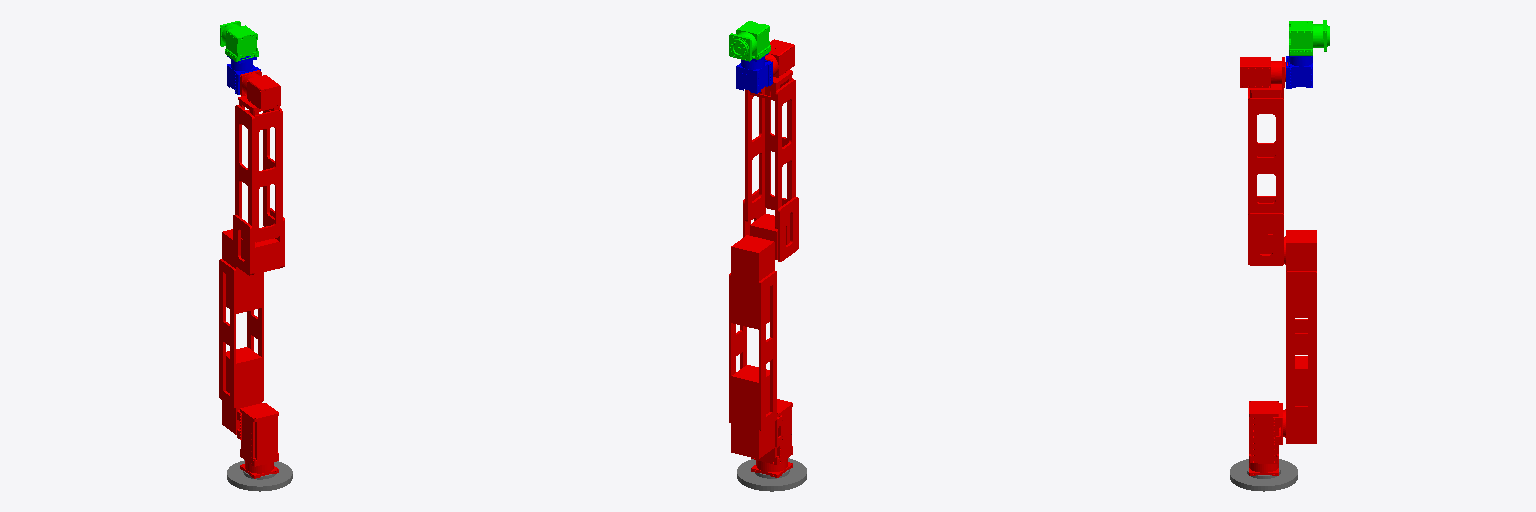
The robot description file, URDF, robot "baram":
<?xml version="1.0" ?>
<!-- =================================================================================== -->
<!-- |    This document was autogenerated by xacro from baram.urdf.xacro               | -->
<!-- |    EDITING THIS FILE BY HAND IS NOT RECOMMENDED                                 | -->
<!-- =================================================================================== -->
<robot name="baram">
  <link name="world"/>
  <joint name="world_fixed" type="fixed">
    <parent link="world"/>
    <child link="link0"/>
    <origin rpy="0 0 0" xyz="0.0 0.0 0.0"/>
  </joint>
  <link name="link0">
    <visual>
      <origin rpy="0 0 0" xyz="0 0 0.01"/>
      <geometry>
        <mesh filename="package://open_manipulator_description/meshes/baram_manipulator/base.stl" scale="0.001 0.001 0.001"/>
      </geometry>
      <material name="gray">
        <color rgba="0.5 0.5 0.5 1.0"/>
      </material>
    </visual>
    <collision>
      <origin rpy="0 0 0" xyz="0 0 0.01"/>
      <geometry>
        <cylinder length="0.05" radius="0.1"/>
      </geometry>
      <material name="gray">
        <color rgba="0.5 0.5 0.5 1.0"/>
      </material>
    </collision>
    <inertial>
      <mass value="0.1"/>
      <origin rpy="0 0 0" xyz="0 0 0"/>
      <inertia ixx="0.03" ixy="0.0" ixz="0.0" iyy="0.03" iyz="0.0" izz="0.03"/>
    </inertial>
  </link>
  <joint name="joint1" type="revolute">
    <origin rpy="0 0 0" xyz="0 0 0.1"/>
    <parent link="link0"/>
    <child link="link1"/>
    <axis xyz="0 0 1"/>
    <limit effort="10.0" lower="-3.14" upper="3.14" velocity="1.5"/>
    <dynamics damping="0.0"/>
  </joint>
  <link name="link1">
    <visual>
      <origin rpy="0 0 3.14" xyz="0 0 -0.025"/>
      <geometry>
        <mesh filename="package://open_manipulator_description/meshes/baram_manipulator/joint1.stl" scale="0.001 0.001 0.001"/>
      </geometry>
      <material name="gray">
        <color rgba="1 0 0 1"/>
      </material>
    </visual>
    <inertial>
      <mass value="0.1"/>
      <origin rpy="0 0 0" xyz="0 0 0"/>
      <inertia ixx="0.03" ixy="0.0" ixz="0.0" iyy="0.03" iyz="0.0" izz="0.03"/>
    </inertial>
  </link>
  <joint name="joint2" type="revolute">
    <origin rpy="0 0 0" xyz="0 0.065 0"/>
    <parent link="link1"/>
    <child link="link2"/>
    <axis xyz="0 1 0"/>
    <limit effort="10.0" lower="-3.14" upper="3.14" velocity="1.5"/>
    <dynamics damping="0.0"/>
  </joint>
  <link name="link2">
    <visual>
      <origin rpy="0 0 3.14" xyz="0 0 0.168"/>
      <geometry>
        <mesh filename="package://open_manipulator_description/meshes/baram_manipulator/joint2.stl" scale="0.001 0.001 0.001"/>
      </geometry>
      <material name="gray">
        <color rgba="1 0 0 1"/>
      </material>
    </visual>
    <inertial>
      <mass value="0.1"/>
      <origin rpy="0 0 0" xyz="0 0 0"/>
      <inertia ixx="0.03" ixy="0.0" ixz="0.0" iyy="0.03" iyz="0.0" izz="0.03"/>
    </inertial>
  </link>
  <joint name="joint3" type="revolute">
    <origin rpy="0 0 3.14" xyz="0 -0.065 0.343"/>
    <parent link="link2"/>
    <child link="link3"/>
    <axis xyz="0 1 0"/>
    <limit effort="10.0" lower="-3.14" upper="3.14" velocity="1.5"/>
    <dynamics damping="0.0"/>
  </joint>
  <link name="link3">
    <visual>
      <origin rpy="0 0 0" xyz="0 0 0.165"/>
      <geometry>
        <mesh filename="package://open_manipulator_description/meshes/baram_manipulator/joint3.stl" scale="0.001 0.001 0.001"/>
      </geometry>
      <material name="gray">
        <color rgba="1 0 0 1"/>
      </material>
    </visual>
    <inertial>
      <mass value="0.1"/>
      <origin rpy="0 0 0" xyz="0 0 0"/>
      <inertia ixx="0.03" ixy="0.0" ixz="0.0" iyy="0.03" iyz="0.0" izz="0.03"/>
    </inertial>
  </link>
  <joint name="joint4" type="revolute">
    <origin rpy="1.57 0 0" xyz="0 0 0.335"/>
    <parent link="link3"/>
    <child link="link4"/>
    <axis xyz="0 0 1"/>
    <limit effort="10.0" lower="-1.57" upper="1.57" velocity="1.5"/>
    <dynamics damping="0.0"/>
  </joint>
  <link name="link4">
    <inertial>
      <mass value="0.1"/>
      <origin rpy="0 0 0" xyz="0 0 0"/>
      <inertia ixx="0.03" ixy="0.0" ixz="0.0" iyy="0.03" iyz="0.0" izz="0.03"/>
    </inertial>
  </link>
  <joint name="link4_to_link5_fixed" type="fixed">
    <origin rpy="3.14 0 0" xyz="0 0 0.065"/>
    <parent link="link4"/>
    <child link="link5"/>
  </joint>
  <link name="link5">
    <visual>
      <origin rpy="0 3.14 0" xyz="0 0 0"/>
      <geometry>
        <mesh filename="package://open_manipulator_description/meshes/baram_manipulator/joint5.stl" scale="0.001 0.001 0.001"/>
      </geometry>
      <material name="gray">
        <color rgba="0 0 1 1"/>
      </material>
    </visual>
    <inertial>
      <mass value="0.1"/>
      <origin rpy="0 0 0" xyz="0 0 0"/>
      <inertia ixx="0.03" ixy="0.0" ixz="0.0" iyy="0.03" iyz="0.0" izz="0.03"/>
    </inertial>
  </link>
  <joint name="joint5" type="revolute">
    <origin rpy="3.14 0 0" xyz="0 -0.07 0"/>
    <parent link="link5"/>
    <child link="link6"/>
    <axis xyz="0 1 0"/>
    <limit effort="10.0" lower="-1.57" upper="1.57" velocity="1.5"/>
    <dynamics damping="0.0"/>
  </joint>
  <link name="link6">
    <visual>
      <origin rpy="1.57 3.14 3.14" xyz="0 0 0"/>
      <geometry>
        <mesh filename="package://open_manipulator_description/meshes/baram_manipulator/joint5.stl" scale="0.001 0.001 0.001"/>
      </geometry>
      <material name="gray">
        <color rgba="0 1 0 1"/>
      </material>
    </visual>
    <inertial>
      <mass value="0.1"/>
      <origin rpy="0 0 0" xyz="0 0 0"/>
      <inertia ixx="0.03" ixy="0.0" ixz="0.0" iyy="0.03" iyz="0.0" izz="0.03"/>
    </inertial>
  </link>
  <joint name="joint6" type="revolute">
    <origin rpy="0 0 0" xyz="0 0 0.055"/>
    <parent link="link6"/>
    <child link="hand"/>
    <axis xyz="0 0 1"/>
    <limit effort="10.0" lower="-1.57" upper="1.57" velocity="1.5"/>
    <dynamics damping="0.0"/>
  </joint>
  <link name="hand">
    <visual>
      <origin rpy="1.57 3.14 3.14" xyz="0 0 0.005"/>
      <geometry>
        <mesh filename="package://open_manipulator_description/meshes/baram_manipulator/hand.stl" scale="0.001 0.001 0.001"/>
      </geometry>
      <material name="gray">
        <color rgba="0 0 0 1"/>
      </material>
    </visual>
    <inertial>
      <mass value="0.1"/>
      <origin rpy="0 0 0" xyz="0 0 0"/>
      <inertia ixx="0.03" ixy="0.0" ixz="0.0" iyy="0.03" iyz="0.0" izz="0.03"/>
    </inertial>
  </link>
  <gazebo reference="link0">
    <kp>1000000.0</kp>
    <kd>100.0</kd>
    <mu1>30.0</mu1>
    <mu2>30.0</mu2>
    <maxVel>1.0</maxVel>
    <minDepth>0.001</minDepth>
  </gazebo>
  <gazebo reference="link1">
    <kp>1000000.0</kp>
    <kd>100.0</kd>
    <mu1>30.0</mu1>
    <mu2>30.0</mu2>
    <maxVel>1.0</maxVel>
    <minDepth>0.001</minDepth>
  </gazebo>
  <gazebo reference="link2">
    <kp>1000000.0</kp>
    <kd>100.0</kd>
    <mu1>30.0</mu1>
    <mu2>30.0</mu2>
    <maxVel>1.0</maxVel>
    <minDepth>0.001</minDepth>
  </gazebo>
  <gazebo reference="link3">
    <kp>1000000.0</kp>
    <kd>100.0</kd>
    <mu1>30.0</mu1>
    <mu2>30.0</mu2>
    <maxVel>1.0</maxVel>
    <minDepth>0.001</minDepth>
  </gazebo>
  <gazebo reference="link4">
    <kp>1000000.0</kp>
    <kd>100.0</kd>
    <mu1>30.0</mu1>
    <mu2>30.0</mu2>
    <maxVel>1.0</maxVel>
    <minDepth>0.001</minDepth>
  </gazebo>
  <gazebo reference="link5">
    <kp>1000000.0</kp>
    <kd>100.0</kd>
    <mu1>30.0</mu1>
    <mu2>30.0</mu2>
    <maxVel>1.0</maxVel>
    <minDepth>0.001</minDepth>
  </gazebo>
  <gazebo reference="link6">
    <kp>1000000.0</kp>
    <kd>100.0</kd>
    <mu1>30.0</mu1>
    <mu2>30.0</mu2>
    <maxVel>1.0</maxVel>
    <minDepth>0.001</minDepth>
  </gazebo>
  <gazebo reference="hand">
    <kp>1000000.0</kp>
    <kd>100.0</kd>
    <mu1>30.0</mu1>
    <mu2>30.0</mu2>
    <maxVel>1.0</maxVel>
    <minDepth>0.001</minDepth>
  </gazebo>
  <transmission name="trans1">
    <type>transmission_interface/SimpleTransmission</type>
    <joint name="joint1">
      <hardwareInterface>PositionJointInterface</hardwareInterface>
    </joint>
    <actuator name="actuator1">
      <mechanicalReduction>1</mechanicalReduction>
      <hardwareInterface>PositionJointInterface</hardwareInterface>
    </actuator>
  </transmission>
  <transmission name="trans2">
    <type>transmission_interface/SimpleTransmission</type>
    <joint name="joint2">
      <hardwareInterface>PositionJointInterface</hardwareInterface>
    </joint>
    <actuator name="actuator2">
      <mechanicalReduction>1</mechanicalReduction>
      <hardwareInterface>PositionJointInterface</hardwareInterface>
    </actuator>
  </transmission>
  <transmission name="trans3">
    <type>transmission_interface/SimpleTransmission</type>
    <joint name="joint3">
      <hardwareInterface>PositionJointInterface</hardwareInterface>
    </joint>
    <actuator name="actuator3">
      <mechanicalReduction>1</mechanicalReduction>
      <hardwareInterface>PositionJointInterface</hardwareInterface>
    </actuator>
  </transmission>
  <transmission name="trans4">
    <type>transmission_interface/SimpleTransmission</type>
    <joint name="joint4">
      <hardwareInterface>PositionJointInterface</hardwareInterface>
    </joint>
    <actuator name="actuator4">
      <mechanicalReduction>1</mechanicalReduction>
      <hardwareInterface>PositionJointInterface</hardwareInterface>
    </actuator>
  </transmission>
  <transmission name="trans5">
    <type>transmission_interface/SimpleTransmission</type>
    <joint name="joint5">
      <hardwareInterface>PositionJointInterface</hardwareInterface>
    </joint>
    <actuator name="actuator5">
      <mechanicalReduction>1</mechanicalReduction>
      <hardwareInterface>PositionJointInterface</hardwareInterface>
    </actuator>
  </transmission>
  <transmission name="trans6">
    <type>transmission_interface/SimpleTransmission</type>
    <joint name="joint6">
      <hardwareInterface>PositionJointInterface</hardwareInterface>
    </joint>
    <actuator name="actuator6">
      <mechanicalReduction>1</mechanicalReduction>
      <hardwareInterface>PositionJointInterface</hardwareInterface>
    </actuator>
  </transmission>
  <ros2_control is_async="true" name="BARAMSystem" type="system">
    <hardware>
      <plugin>dynamixel_hardware_interface/DynamixelHardware</plugin>
      <param name="port_name">/dev/ttyUSB0</param>
      <param name="baud_rate">2000000</param>
      <param name="error_timeout_ms">500</param>
      <param name="dynamixel_model_folder">/param/dxl_model</param>
      <param name="number_of_joints">6</param>
      <param name="number_of_transmissions">6</param>
      <param name="disable_torque_at_init">true</param>
      <param name="dynamixel_state_pub_msg_name">dynamixel_hardware_interface/dxl_state</param>
      <param name="get_dynamixel_data_srv_name">dynamixel_hardware_interface/get_dxl_data</param>
      <param name="set_dynamixel_data_srv_name">dynamixel_hardware_interface/set_dxl_data</param>
      <param name="reboot_dxl_srv_name">dynamixel_hardware_interface/reboot_dxl</param>
      <param name="set_dxl_torque_srv_name">dynamixel_hardware_interface/set_dxl_torque</param>
    </hardware>
    <joint name="joint1">
      <command_interface name="position"/>
      <state_interface name="position"/>
      <state_interface name="velocity"/>
    </joint>
    <joint name="joint2">
      <command_interface name="position"/>
      <state_interface name="position"/>
      <state_interface name="velocity"/>
    </joint>
    <joint name="joint3">
      <command_interface name="position"/>
      <state_interface name="position"/>
      <state_interface name="velocity"/>
    </joint>
    <joint name="joint4">
      <command_interface name="position"/>
      <state_interface name="position"/>
      <state_interface name="velocity"/>
    </joint>
    <joint name="joint5">
      <command_interface name="position"/>
      <state_interface name="position"/>
      <state_interface name="velocity"/>
    </joint>
    <joint name="joint6">
      <command_interface name="position"/>
      <state_interface name="position"/>
      <state_interface name="velocity"/>
    </joint>
    <gpio name="dxl0">
      <param name="type">dxl</param>
      <param name="ID">0</param>
      <command_interface name="Goal Position"/>
      <state_interface name="Present Position"/>
      <state_interface name="Present Velocity"/>
      <param name="Drive Mode">0</param>
      <param name="Operating Mode">3</param>
      <param name="Return Delay Time">0</param>
      <param name="Position P Gain">1000</param>
      <param name="Position I Gain">0</param>
      <param name="Position D Gain">1000</param>
      <param name="Profile Velocity">50</param>
      <param name="Profile Acceleration">25</param>
    </gpio>
    <gpio name="dxl1">
      <param name="type">dxl</param>
      <param name="ID">1</param>
      <command_interface name="Goal Position"/>
      <state_interface name="Present Position"/>
      <state_interface name="Present Velocity"/>
      <param name="Drive Mode">0</param>
      <param name="Operating Mode">3</param>
      <param name="Return Delay Time">0</param>
      <param name="Position P Gain">1000</param>
      <param name="Position I Gain">0</param>
      <param name="Position D Gain">1000</param>
      <param name="Profile Velocity">50</param>
      <param name="Profile Acceleration">25</param>
    </gpio>
    <gpio name="dxl2">
      <param name="type">dxl</param>
      <param name="ID">2</param>
      <command_interface name="Goal Position"/>
      <state_interface name="Present Position"/>
      <state_interface name="Present Velocity"/>
      <param name="Drive Mode">0</param>
      <param name="Operating Mode">3</param>
      <param name="Return Delay Time">0</param>
      <param name="Position P Gain">1000</param>
      <param name="Position I Gain">0</param>
      <param name="Position D Gain">1000</param>
      <param name="Profile Velocity">50</param>
      <param name="Profile Acceleration">25</param>
    </gpio>
    <gpio name="dxl3">
      <param name="type">dxl</param>
      <param name="ID">3</param>
      <command_interface name="Goal Position"/>
      <state_interface name="Present Position"/>
      <state_interface name="Present Velocity"/>
      <param name="Drive Mode">0</param>
      <param name="Operating Mode">3</param>
      <param name="Return Delay Time">0</param>
      <param name="Position P Gain">1000</param>
      <param name="Position I Gain">0</param>
      <param name="Position D Gain">1000</param>
      <param name="Profile Velocity">50</param>
      <param name="Profile Acceleration">25</param>
    </gpio>
    <gpio name="dxl4">
      <param name="type">dxl</param>
      <param name="ID">4</param>
      <command_interface name="Goal Position"/>
      <state_interface name="Present Position"/>
      <state_interface name="Present Velocity"/>
      <param name="Drive Mode">0</param>
      <param name="Operating Mode">3</param>
      <param name="Return Delay Time">0</param>
      <param name="Position P Gain">1000</param>
      <param name="Position I Gain">0</param>
      <param name="Position D Gain">1000</param>
      <param name="Profile Velocity">50</param>
      <param name="Profile Acceleration">25</param>
    </gpio>
    <gpio name="dxl5">
      <param name="type">dxl</param>
      <param name="ID">5</param>
      <command_interface name="Goal Position"/>
      <state_interface name="Present Position"/>
      <state_interface name="Present Velocity"/>
      <param name="Operating Mode">3</param>
      <param name="Return Delay Time">0</param>
      <param name="Position P Gain">64</param>
    </gpio>
  </ros2_control>
  <gazebo>
    <plugin filename="gz_ros2_control-system" name="gz_ros2_control::GazeboSimROS2ControlPlugin">
      <parameters>/root/ros2_ws/install/open_manipulator_bringup/share/open_manipulator_bringup/config/baram/hardware_controller_manager.yaml</parameters>
    </plugin>
  </gazebo>
</robot>

--- What the picture shows (computed from the rendered views, not written in the file) ---
The picture shows the robot from 3 angles, left to right: view 1: azimuth 30°, elevation 25°; view 2: azimuth 150°, elevation 25°; view 3: azimuth 270°, elevation 25°; orthographic projection.
Model baram with 9 links and 8 joints (6 revolute, 2 fixed), rooted at world, posed every joint at zero.
Visible links, largest first — view 1: link3, link2, link1, link0, link6, link5; view 2: link2, link3, link1, link0, link6, link5; view 3: link3, link2, link1, link0, link6, link5.
Link boxes in pixels (<box>): link3: <box>233,70,284,275</box>; link2: <box>219,229,263,434</box>; link1: <box>237,403,278,478</box>; link0: <box>227,460,292,491</box>; link6: <box>220,21,258,61</box>; link5: <box>227,56,260,94</box>; link2: <box>729,235,776,458</box>; link3: <box>743,39,798,261</box>; link1: <box>751,399,792,477</box>; link0: <box>737,458,806,491</box>; link6: <box>729,21,770,61</box>; link5: <box>736,53,772,93</box>; link3: <box>1240,57,1287,265</box>; link2: <box>1283,230,1316,443</box>; link1: <box>1249,401,1282,475</box>; link0: <box>1230,459,1297,491</box>; link6: <box>1289,20,1329,55</box>; link5: <box>1286,56,1312,88</box>.
Bounding box of the posed robot: 0.12 × 0.1764 × 0.8721 m (x, y, z).
6 mesh visuals loaded from 6 distinct referenced files (5 binary STL); not drawn: 1 (reference not matched to a file when rendering).
